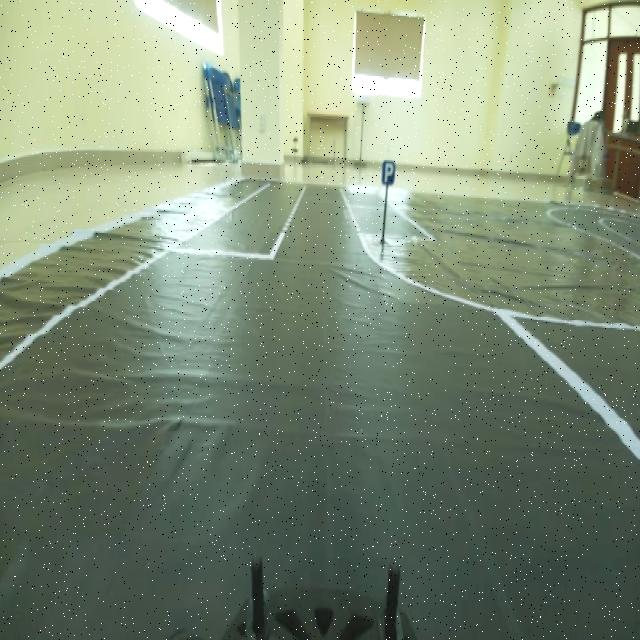parking: (376, 150, 399, 192)
